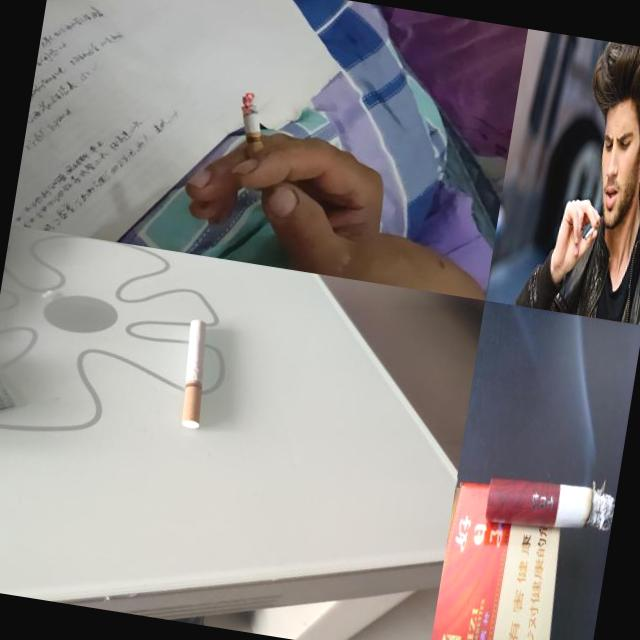cigarette: (484, 472, 616, 541), (174, 318, 220, 430), (232, 90, 278, 176), (584, 217, 602, 242)
